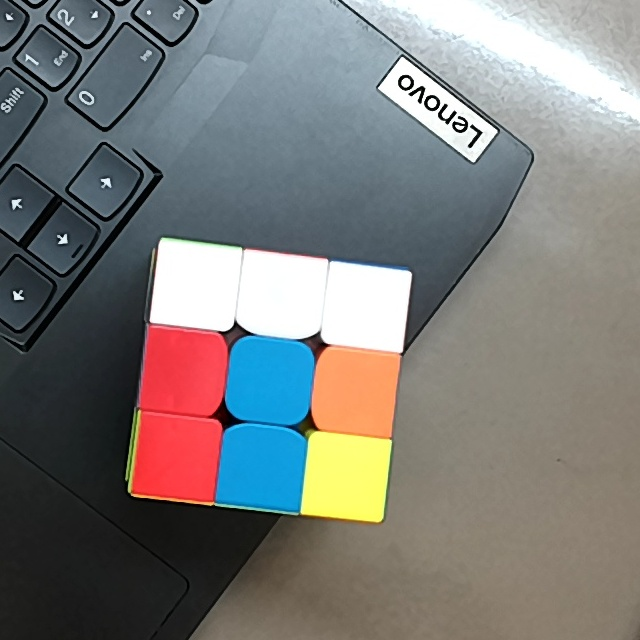tile: (139, 422, 213, 492), (162, 250, 231, 320), (149, 335, 217, 403), (335, 273, 399, 343), (322, 360, 392, 424), (315, 440, 378, 511), (236, 349, 301, 417), (251, 262, 317, 328), (229, 437, 294, 500)
